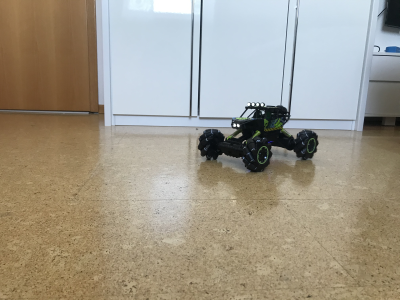remote control car: (196, 99, 320, 174)
